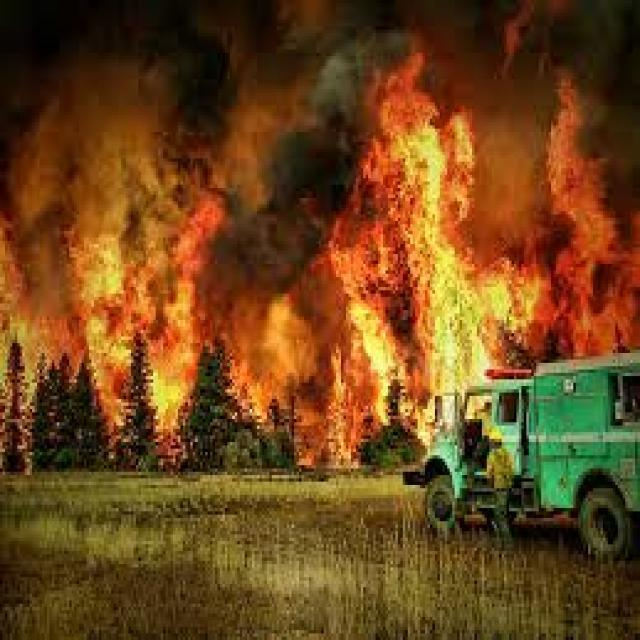Fire: (8, 230, 220, 442), (391, 120, 520, 446), (548, 81, 640, 354), (273, 271, 378, 448)
Smoke: (0, 0, 193, 202), (192, 50, 356, 234)
